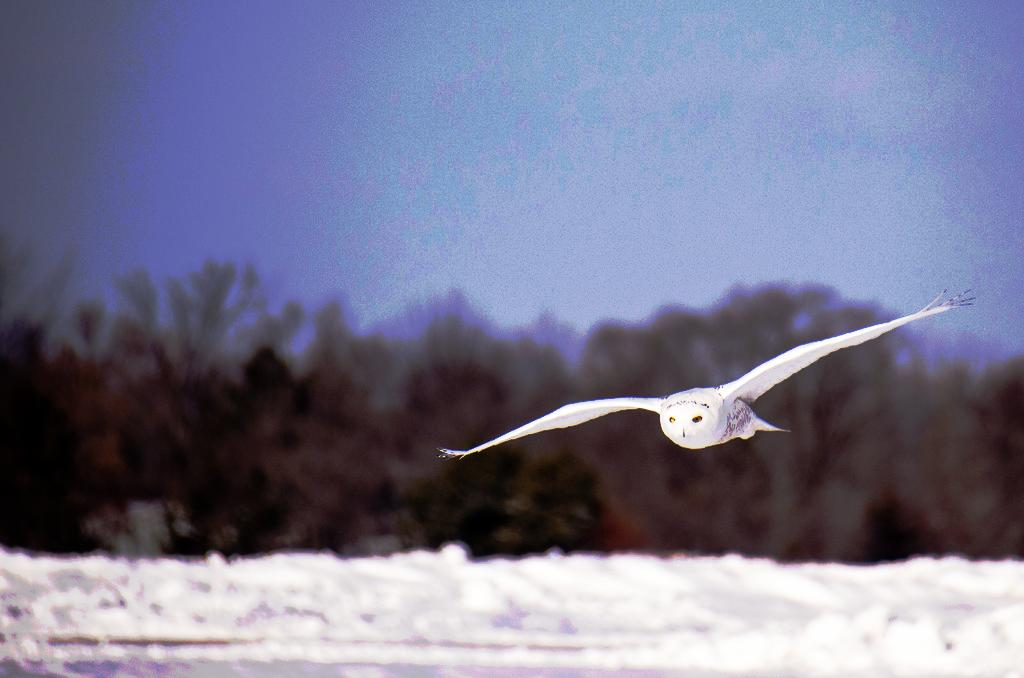Owl: (432, 282, 964, 472)
